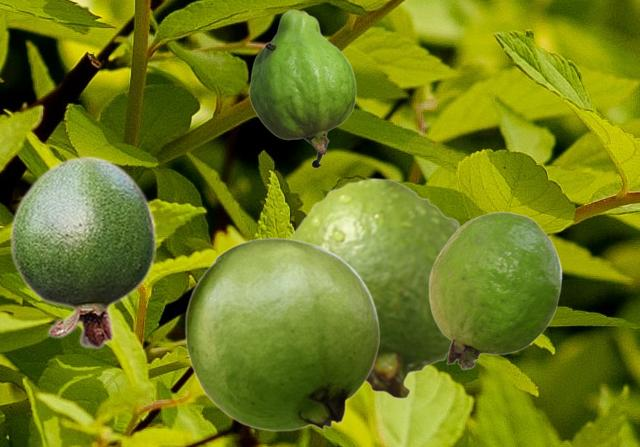guava: (184, 237, 379, 431), (289, 177, 460, 398), (9, 155, 157, 349), (428, 211, 561, 369), (248, 9, 355, 167)
